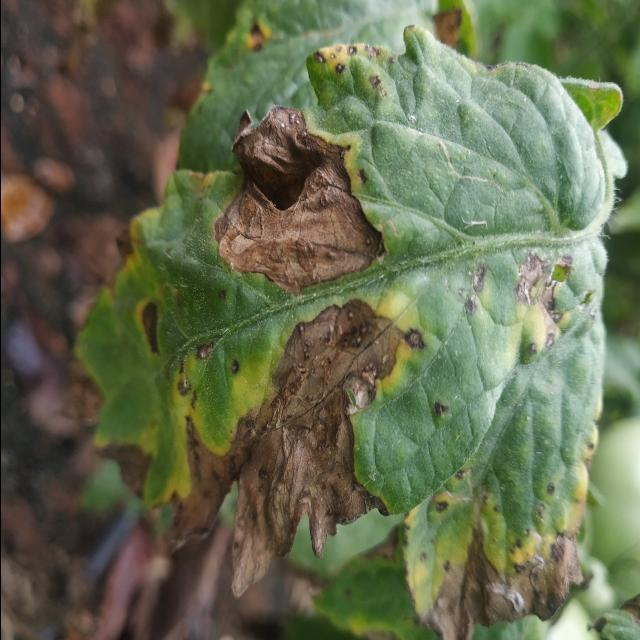Tomato mosaic virus leaf: (75, 14, 576, 606)
